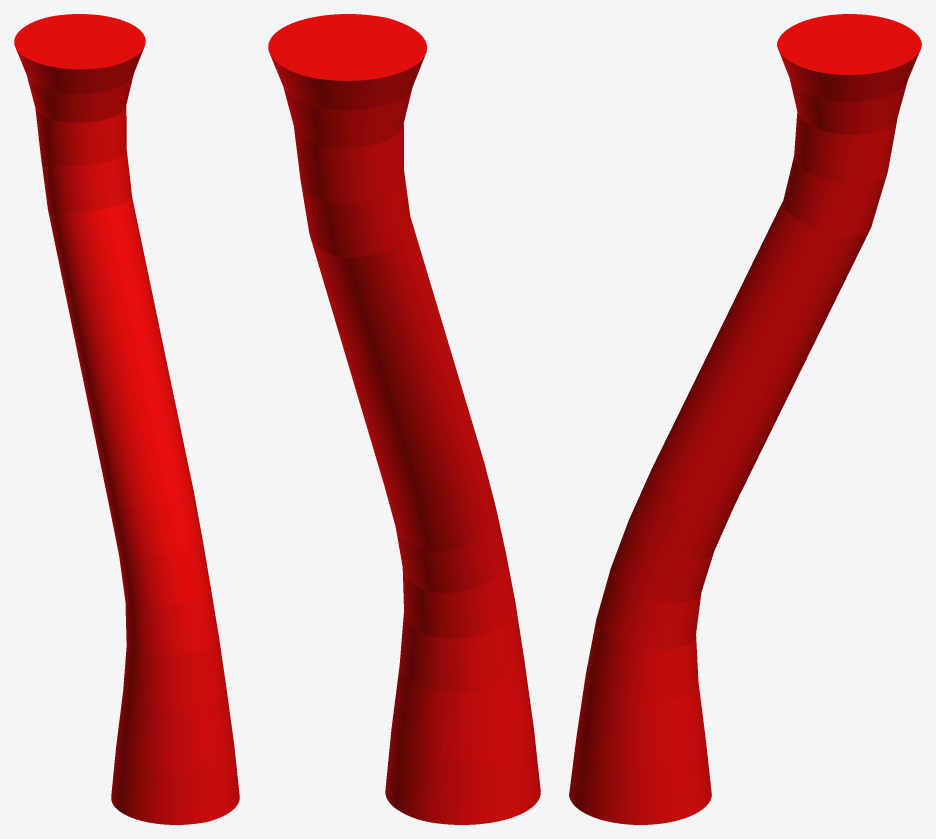
The picture shows the model from 3 angles, left to right: view 1: azimuth 30°, elevation 25°; view 2: azimuth 150°, elevation 25°; view 3: azimuth 270°, elevation 25°; orthographic projection. The views are drawn at different scales.
Visible parts, largest first — view 1: MF0617_4_0; view 2: MF0617_4_0; view 3: MF0617_4_0.
Part boxes in pixels (x1,y1,x2,y2): MF0617_4_0: (14, 14, 239, 824); MF0617_4_0: (268, 14, 540, 824); MF0617_4_0: (569, 14, 921, 824).
Bounding box in the file's own units: 101 × 247 × 579.
